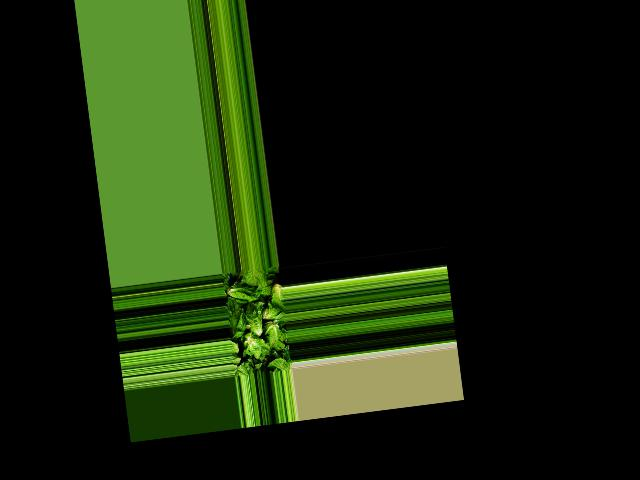lettuce: (267, 278, 284, 314)
